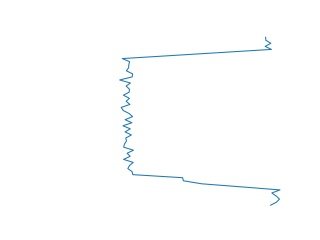distributaryChannelFill: (114, 36, 288, 206)
